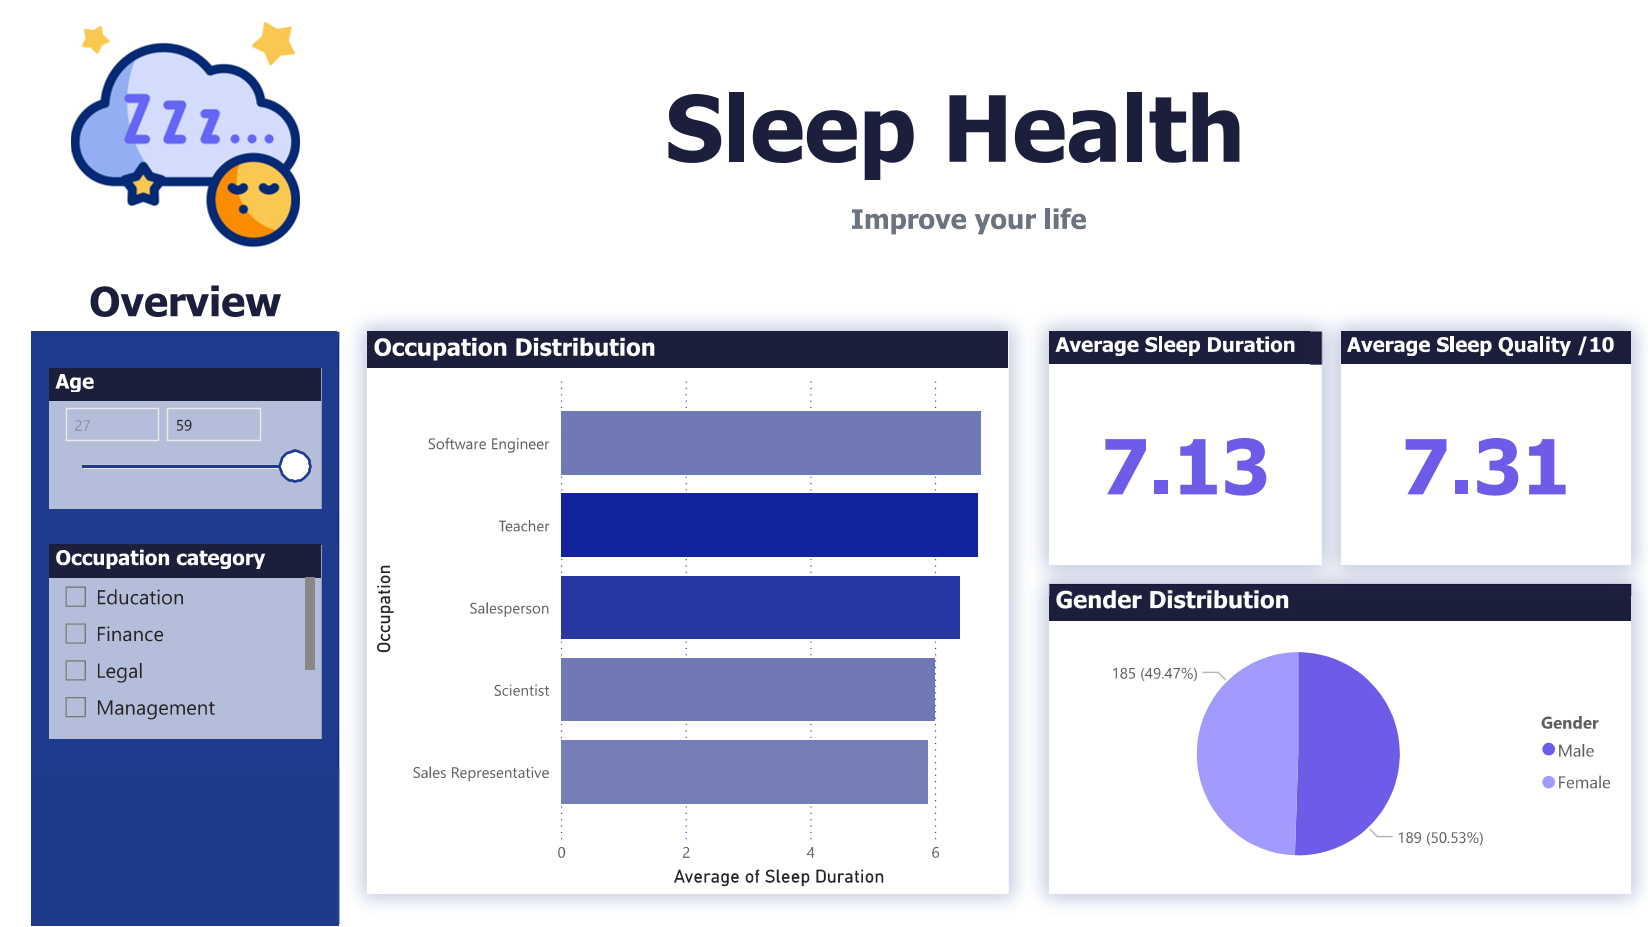

This screenshot's page, from the dashboard's own definition file:
{"tool":"powerbi","page":{"name":"Overview","canvas":[1280,720],"ordinal":0},"visuals":[{"type":"shape","box":[0,251.1,242.9,469.3],"z":0},{"type":"image","box":[0,0,242.9,190.7],"z":1000},{"type":"textbox","box":[264.8,39.8,949.6,150.9],"z":2000},{"type":"textbox","box":[0,201.7,242.9,78.2],"z":3000},{"type":"pieChart","title":"Gender Distribution","fields":{"Y":["CountNonNull(clean_data.Gender)"],"Category":["clean_data.Gender"]},"box":[802.7,450.1,459.7,244.3],"z":4000},{"type":"clusteredBarChart","title":"Occupation Distribution","fields":{"Category":["clean_data.Occupation"],"Y":["Avg(clean_data.Sleep Duration)"]},"box":[264.8,251.1,506.3,443.2],"z":5000},{"type":"card","title":"Average Sleep Duration","fields":{"Values":["Avg(clean_data.Sleep Duration)"]},"box":[802.7,251.1,215.4,183.9],"z":6000},{"type":"card","title":"Average Sleep Quality /10","fields":{"Values":["Avg(clean_data.Quality of Sleep)"]},"box":[1033.3,251.1,229.2,183.9],"z":7000},{"type":"slicer","title":"Age","fields":{"Values":["clean_data.Age"]},"box":[13.7,279.9,215.4,111.1],"z":8000},{"type":"slicer","title":"Occupation category","fields":{"Values":["clean_data.Occupation category"]},"box":[13.7,418.5,215.4,153.7],"z":9000}]}

Visuals, with their boxes in screenshot pixels (x1, y1, x2, y2), scaled from the page's 1280x720 canvas onto the 1648x927 screenshot:
shape: 0/323/313/926
image: 0/0/313/246
textbox: 341/51/1564/246
textbox: 0/260/313/360
"Gender Distribution" pieChart: 1033/580/1625/894
"Occupation Distribution" clusteredBarChart: 341/323/993/894
"Average Sleep Duration" card: 1033/323/1311/560
"Average Sleep Quality /10" card: 1330/323/1625/560
"Age" slicer: 18/360/295/503
"Occupation category" slicer: 18/539/295/737
